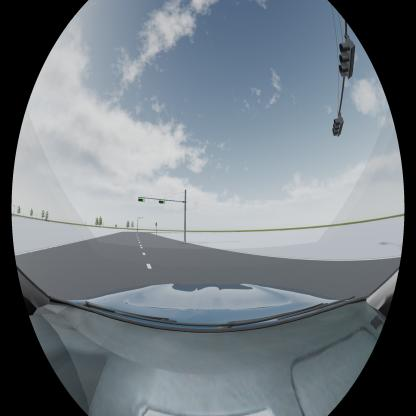Green Light: (138, 198, 145, 203), (158, 200, 166, 204)
